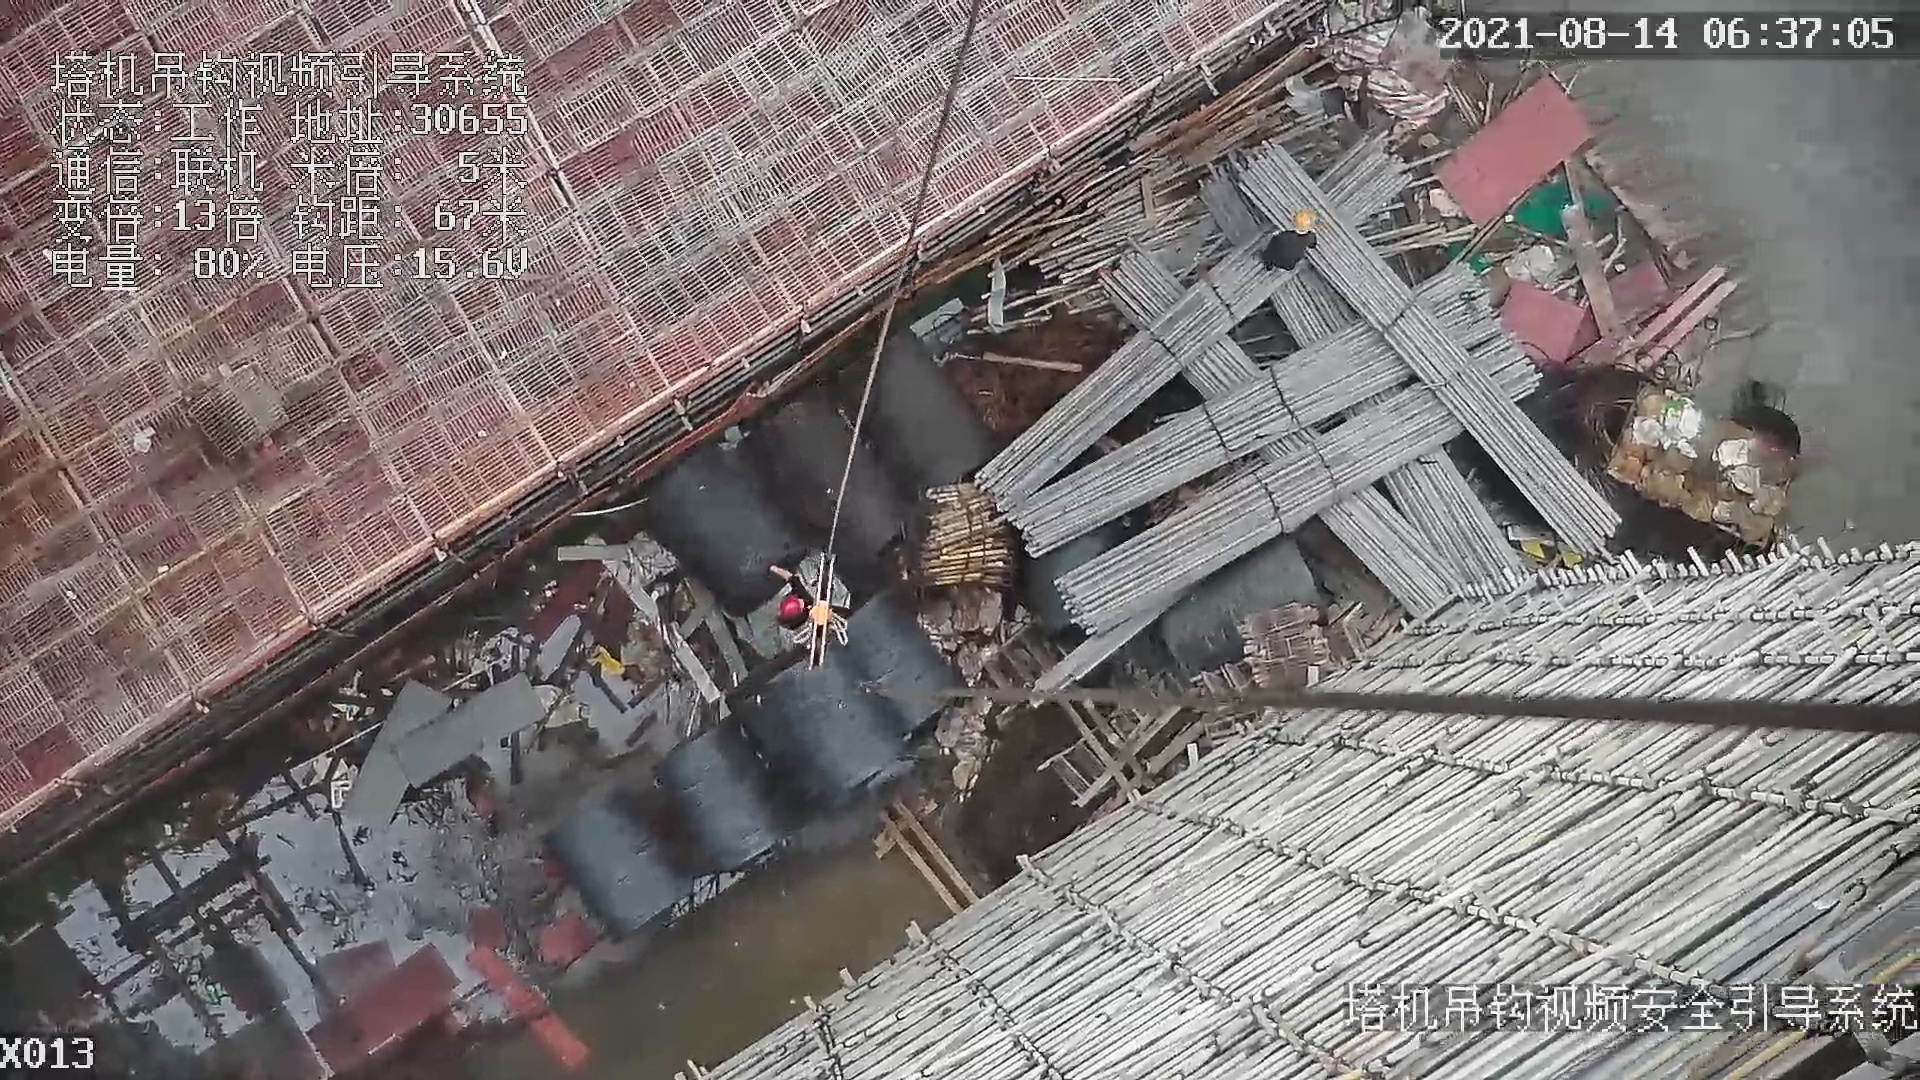helmet: (779, 593, 803, 622), (1290, 205, 1314, 233)
hook: (795, 550, 858, 667)
person: (1254, 206, 1320, 273), (760, 554, 815, 631)
scaffold: (1028, 133, 1631, 615), (912, 465, 1022, 609)
